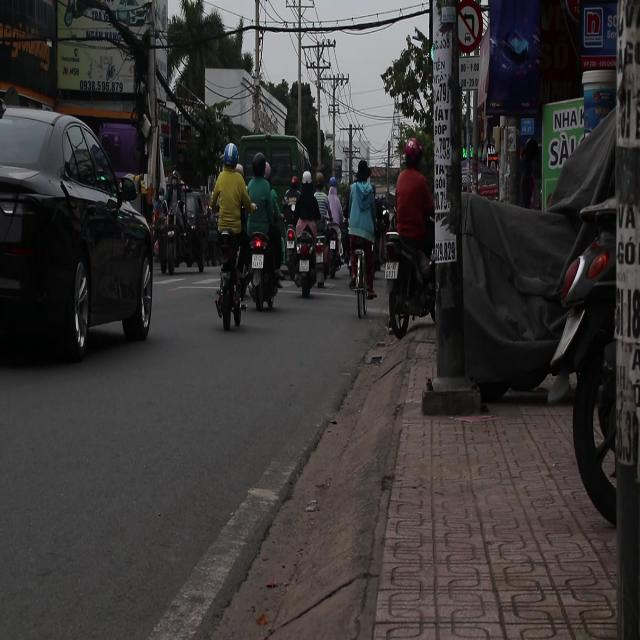bus: (240, 133, 310, 202)
car: (0, 98, 154, 362)
motorbike: (384, 232, 433, 338), (245, 228, 281, 312), (286, 222, 320, 296), (318, 223, 345, 283)
